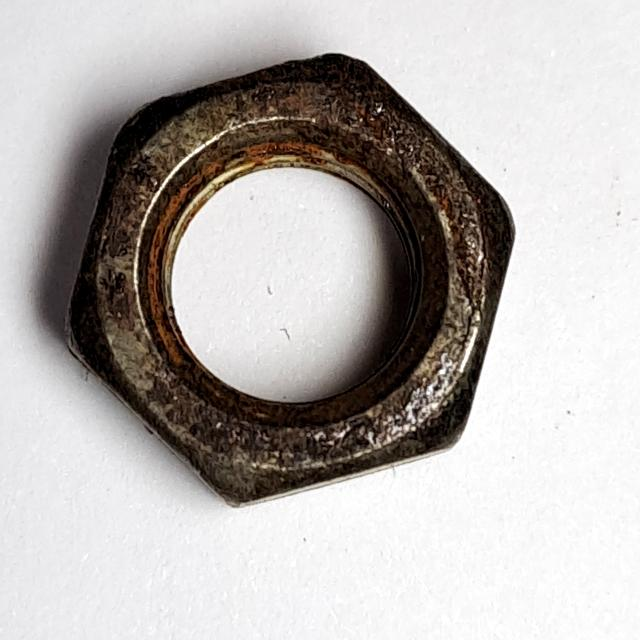Rust: (53, 44, 522, 519)
